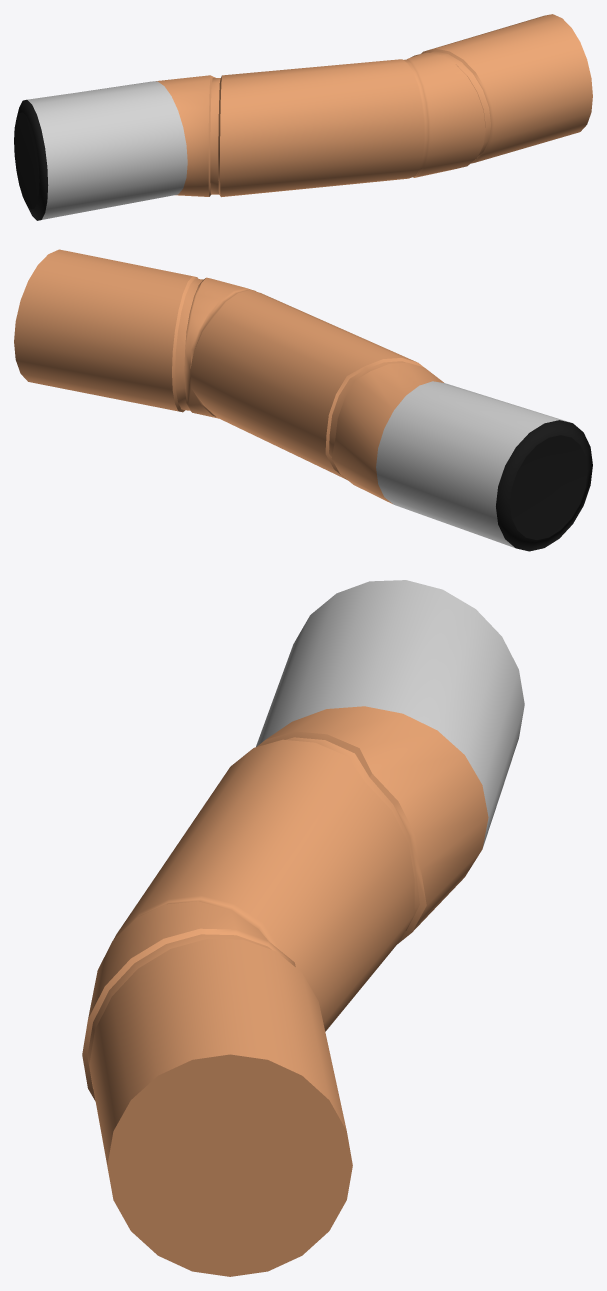
File: Cigarette_butt.fbx
3 views of the same model, one above another, from view 1: azimuth 30°, elevation 25°; view 2: azimuth 150°, elevation 25°; view 3: azimuth 270°, elevation 25° (orthographic). The views are drawn at different scales.
Visible parts, largest first — view 1: pCylinder1; view 2: pCylinder1; view 3: pCylinder1.
Part boxes in pixels (box(x1,y1,x2,y2)): pCylinder1: box(14, 14, 592, 220); pCylinder1: box(14, 249, 592, 551); pCylinder1: box(82, 580, 524, 1276).
Bounding box in the file's own units: 1.94 × 0.4116 × 0.7422.
